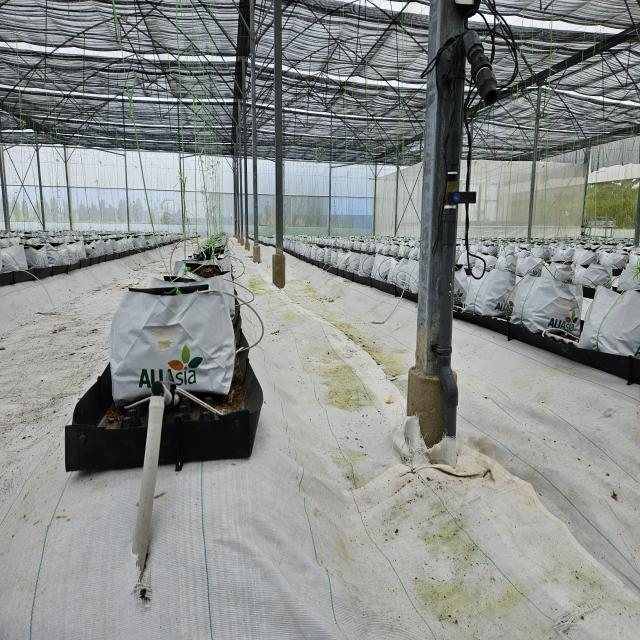Soilbag: (110, 290, 235, 408)
